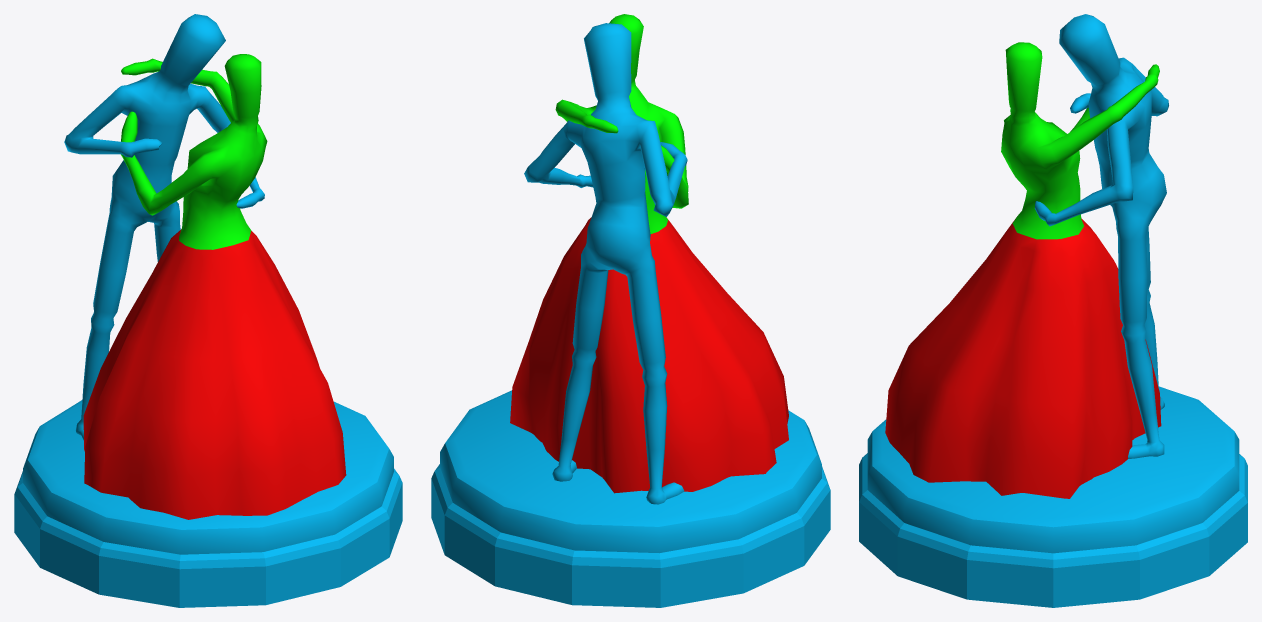
File: RE_FIGURINE_M.FBX
3 views of the same model, side by side, from view 1: azimuth 30°, elevation 25°; view 2: azimuth 150°, elevation 25°; view 3: azimuth 270°, elevation 25° (orthographic). The views are drawn at different scales.
Visible parts, largest first — view 1: Cylinder006; view 2: Cylinder006; view 3: Cylinder006.
Part boxes in pixels (box(x1,y1,x2,y2)): Cylinder006: box(14, 14, 402, 607); Cylinder006: box(431, 14, 830, 607); Cylinder006: box(859, 14, 1247, 607).
Bounding box in the file's own units: 10.69 × 15.06 × 10.42.
